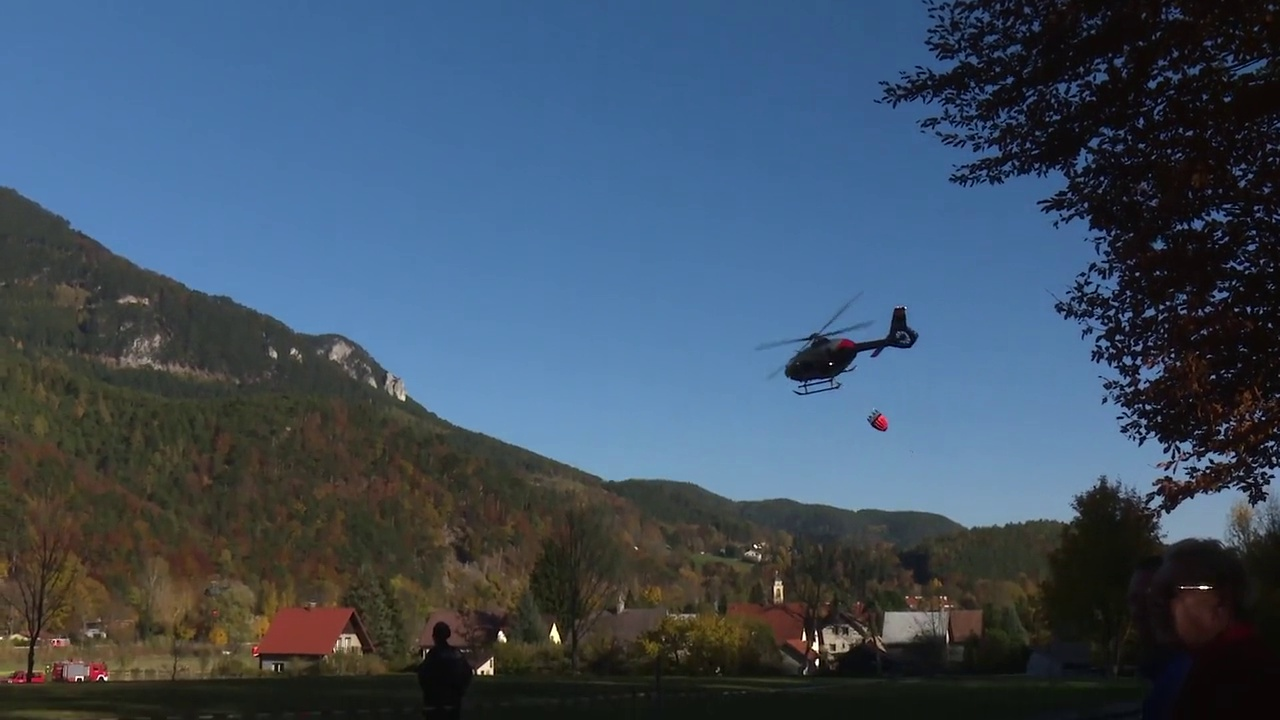heli: (753, 294, 920, 398)
